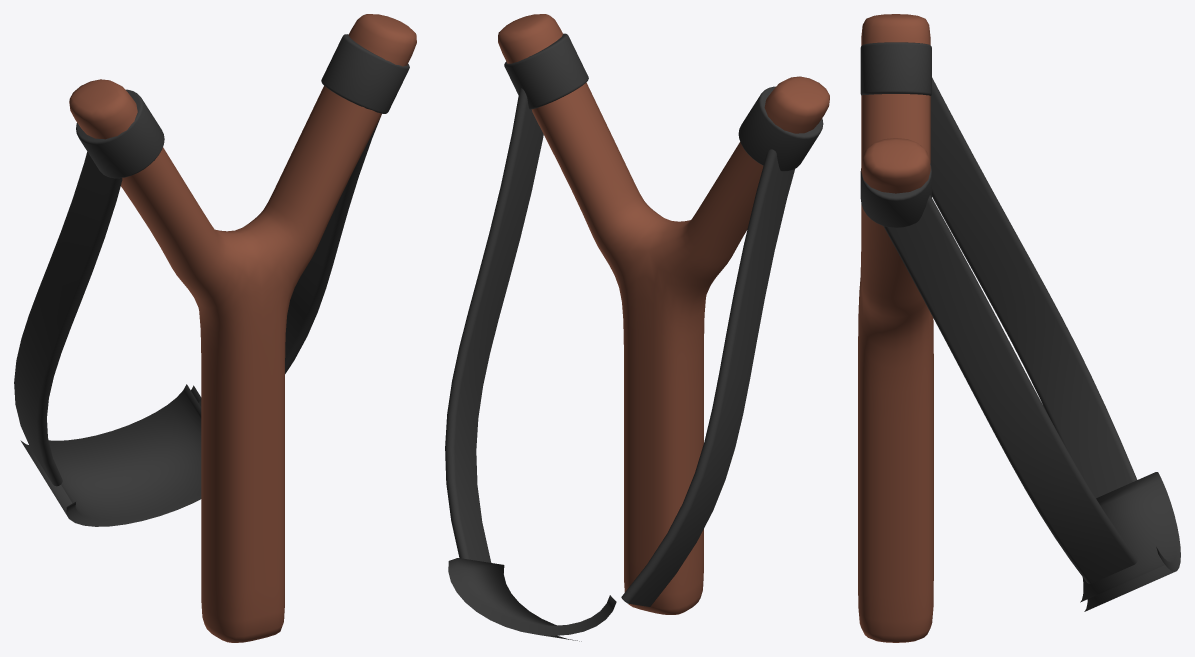
The model's file is Ketapel.gltf.
The picture shows the model from 3 angles, left to right: view 1: azimuth 30°, elevation 25°; view 2: azimuth 150°, elevation 25°; view 3: azimuth 270°, elevation 25°; orthographic projection. The views are drawn at different scales.
Visible parts, largest first — view 1: Ketapel, Karet; view 2: Ketapel, Karet; view 3: Karet, Ketapel.
Boxes of the visible parts, x1,y1,x2,y2 form: Ketapel: [69, 14, 416, 642]; Karet: [14, 117, 380, 526]; Ketapel: [498, 14, 829, 614]; Karet: [445, 88, 794, 641]; Karet: [883, 77, 1180, 611]; Ketapel: [858, 14, 933, 642].
Size of the model in its own units: 0.2474 by 0.4071 by 0.2155.
